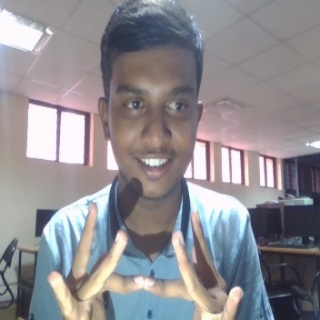Face: (98, 1, 206, 202)
